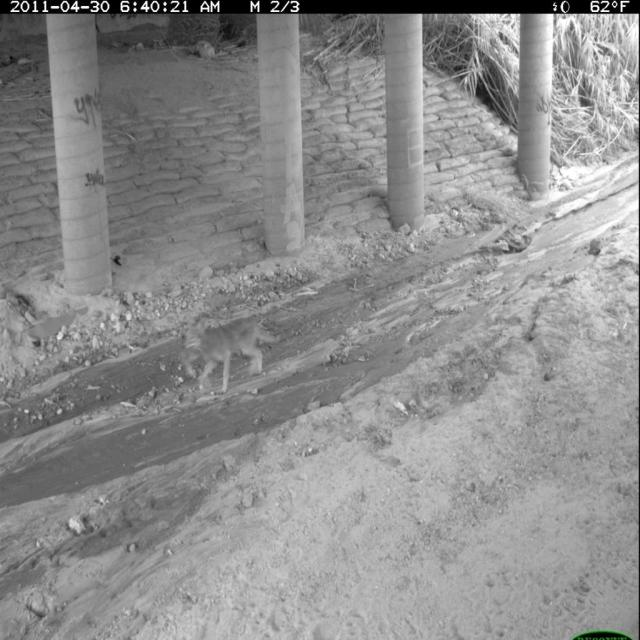coyote: (174, 312, 286, 400)
rabbit: (179, 346, 203, 383)
